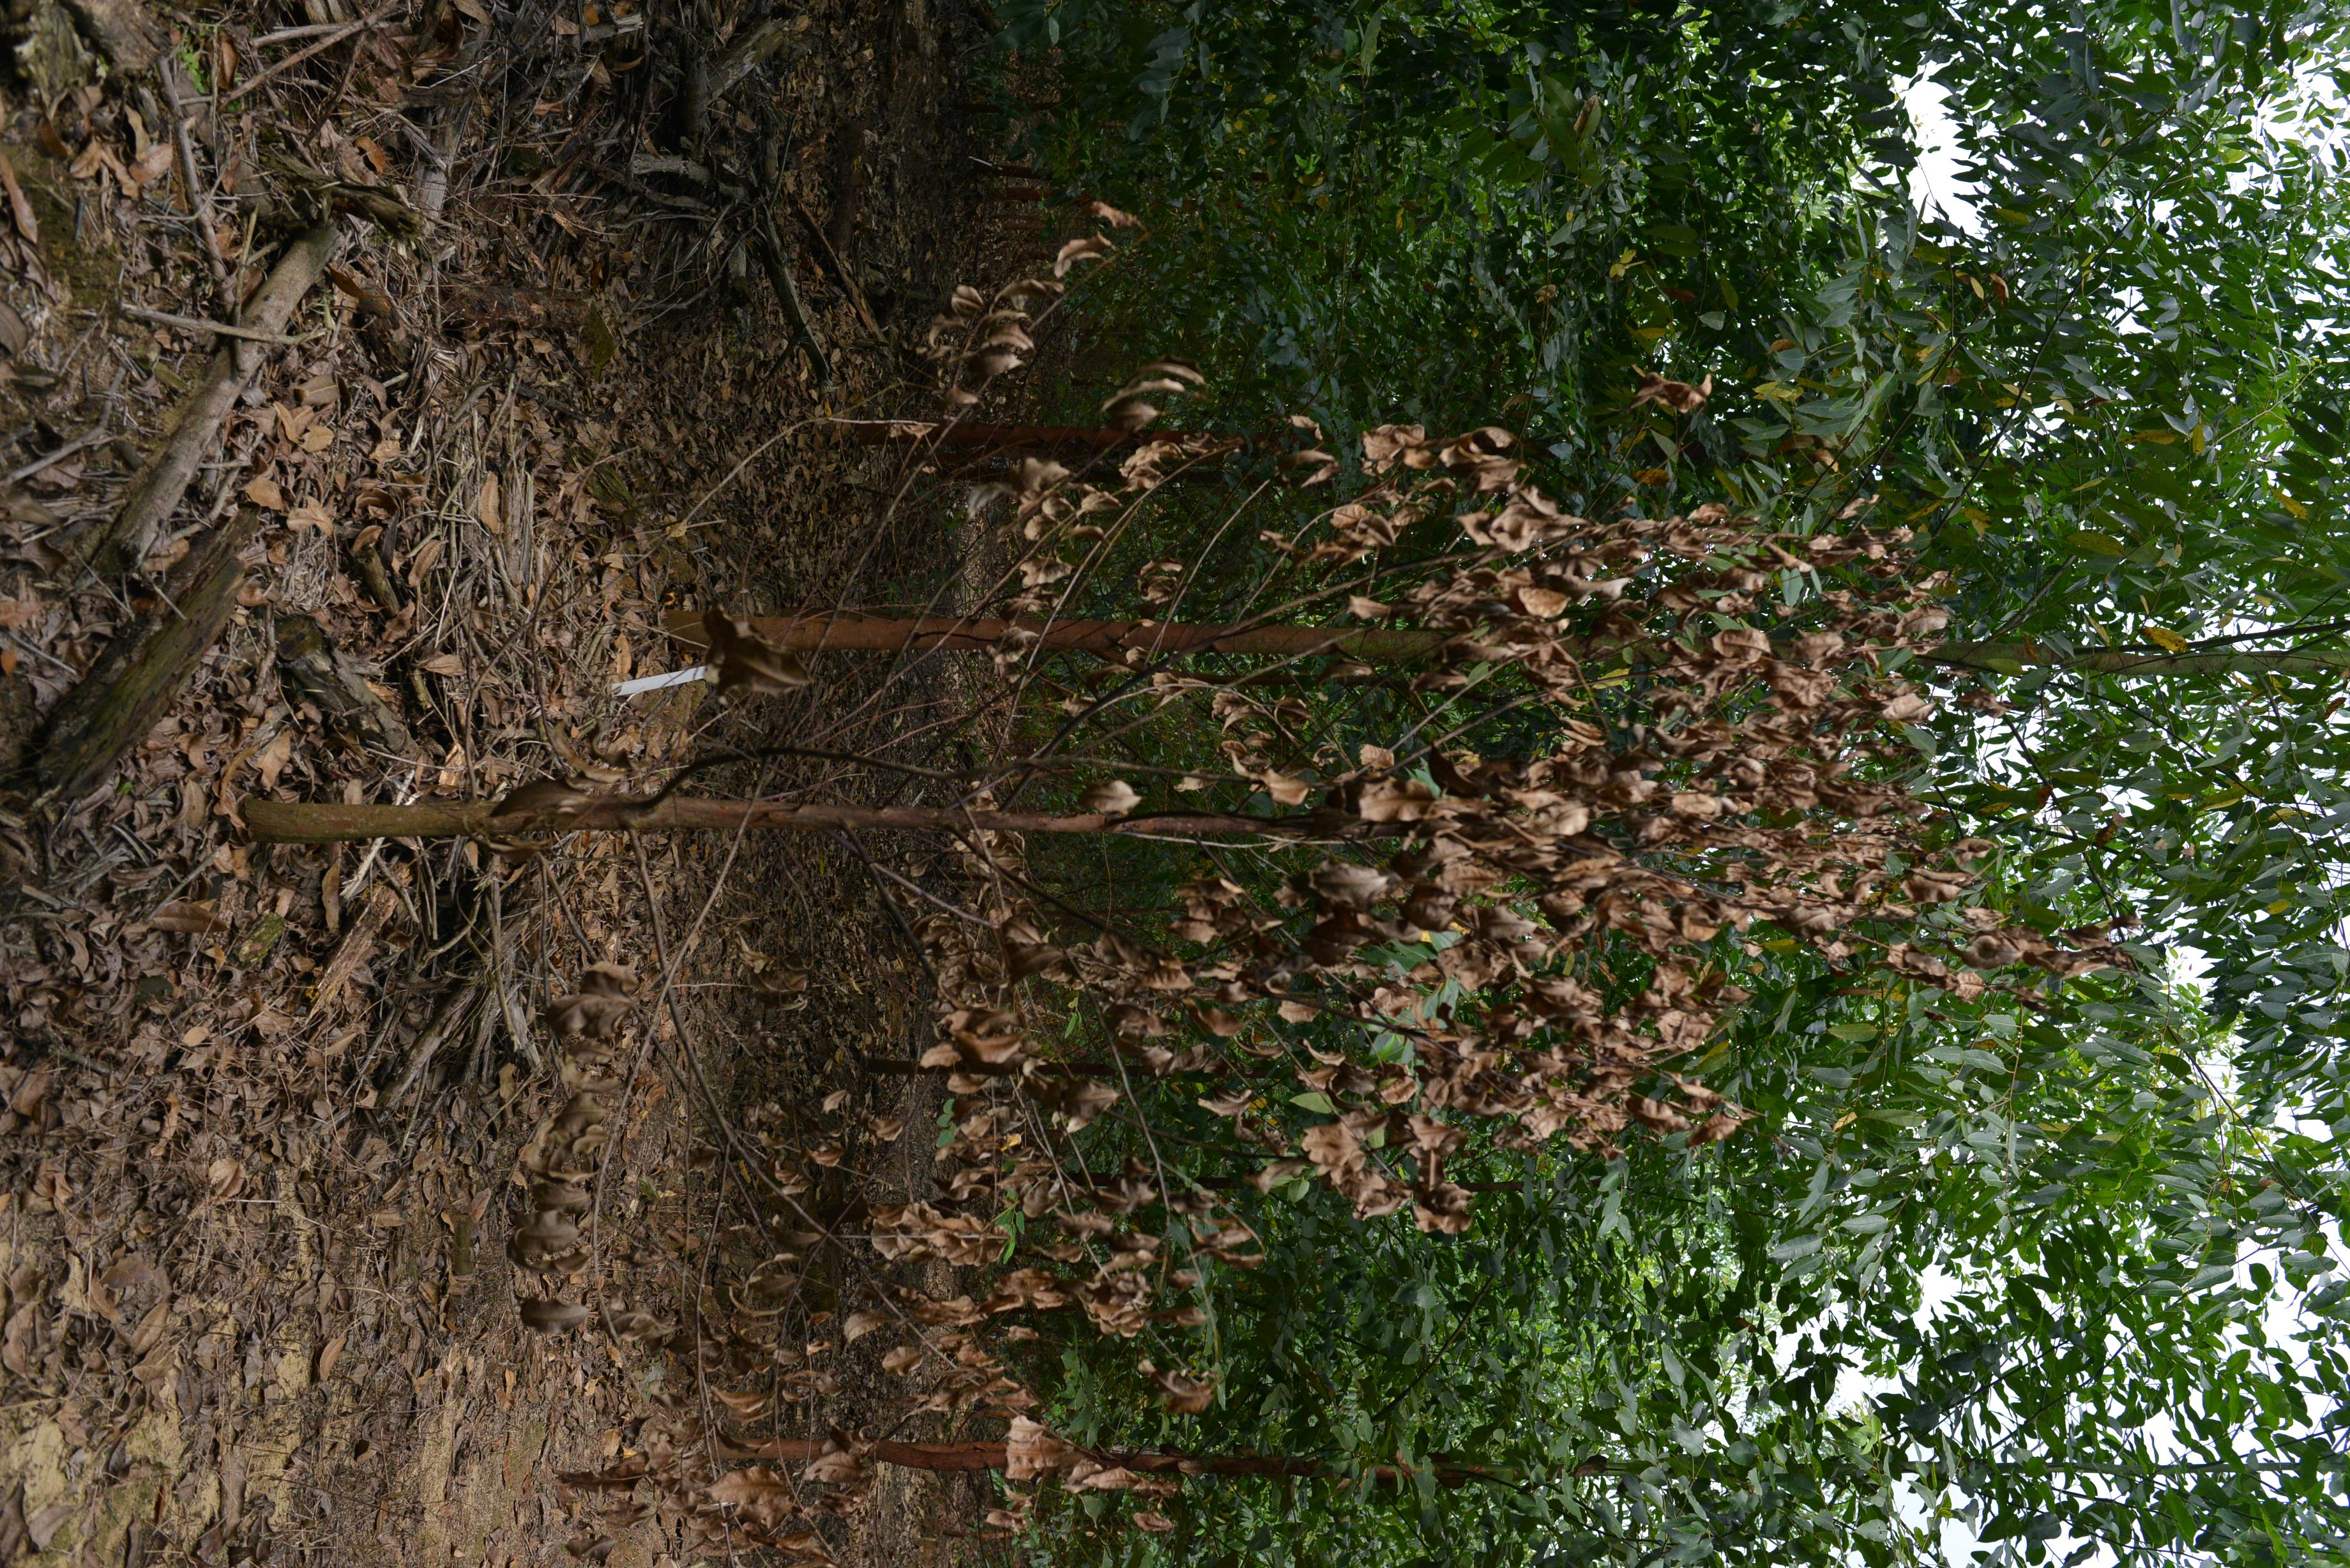Wither Tree Parts: (186, 176, 2139, 1403)
